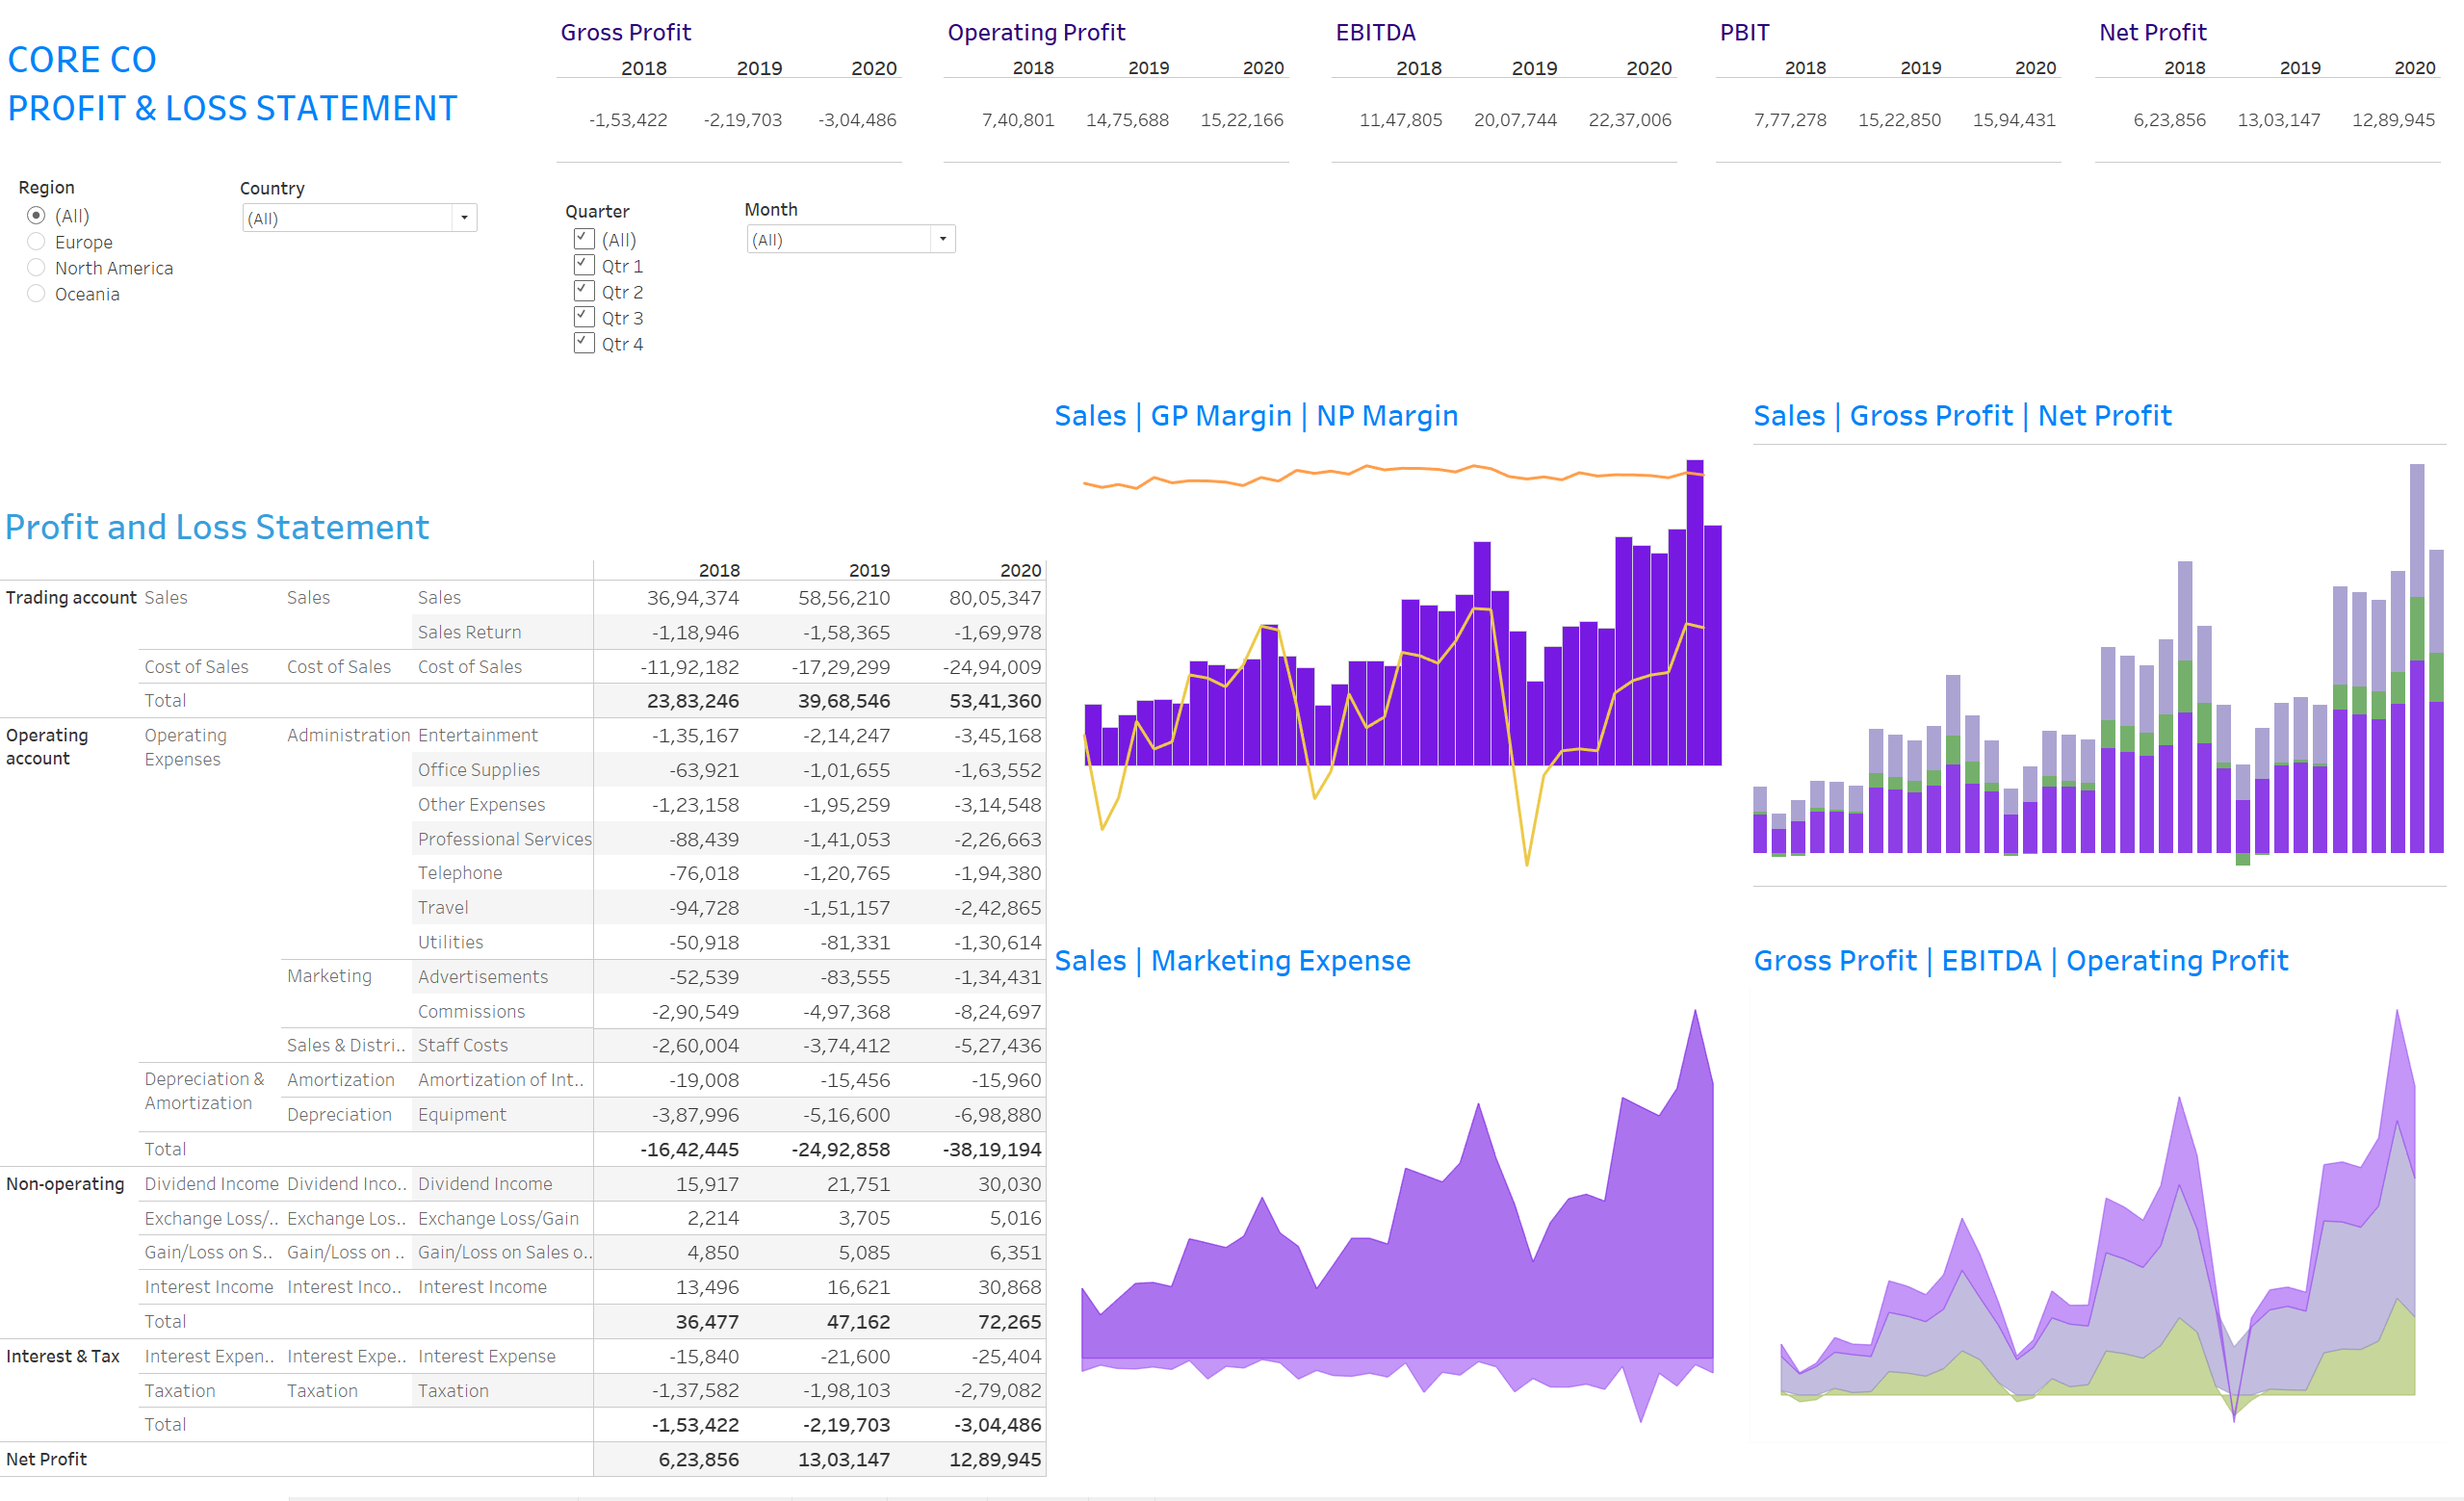

This screenshot's page, from the dashboard's own definition file:
{"tool":"tableau","page":{"name":"Financial Performance Dashboard","canvas":[1000,1000],"units":"permille","ordinal":2},"visuals":[{"type":"text","box":[1.3,3,214.8,102.6]},{"type":"worksheet","title":"Gross Profit","mark":"Automatic","cols":["Date (Calendar)"],"box":[225.9,7.5,140.4,101.1]},{"type":"worksheet","title":"Operating Profit","mark":"Automatic","cols":["Date (Calendar)"],"box":[382.8,7.5,140.4,101.1]},{"type":"worksheet","title":"EBITDA","mark":"Automatic","cols":["Date (Calendar)"],"box":[540.1,7.5,140.4,101.1]},{"type":"worksheet","title":"PBIT","mark":"Automatic","cols":["Date (Calendar)"],"box":[696.1,7.5,140.4,101.1]},{"type":"worksheet","title":"Net Profit","mark":"Automatic","cols":["Date (Calendar)"],"box":[849.8,7.5,140.4,101.1]},{"type":"filter","title":"Profit / Loss ","param":"[federated.1s87rl710kylzb1b4fb0w1q7lk72].[none:Region:nk]","box":[7.6,116.1,71.3,105.6]},{"type":"filter","title":"Profit / Loss ","param":"[federated.1s87rl710kylzb1b4fb0w1q7lk72].[none:Country:nk]","box":[97.2,116.9,97.6,189.3]},{"type":"filter","title":"Profit / Loss ","param":"[federated.1s87rl710kylzb1b4fb0w1q7lk72].[none:Month:nk]","box":[301.9,131.2,87,125.9]},{"type":"filter","title":"Profit / Loss ","param":"[federated.1s87rl710kylzb1b4fb0w1q7lk72].[none:Quarter:nk]","box":[229.2,132.7,71.3,136.5]},{"type":"worksheet","title":"Combo chart","mark":"Automatic","rows":["Calculation_321725930986655744"],"cols":["Date (Calendar)"],"box":[426,260.2,285.2,331.8]},{"type":"worksheet","title":"Sheet 8","mark":"Bar","cols":["Date (Calendar)","Date (Calendar)","Date (Calendar)"],"box":[709.9,260.2,283,331.8]},{"type":"worksheet","title":"Profit / Loss ","mark":"Automatic","rows":["Class","SubClass","SubClass2","Account"],"cols":["Date (Calendar)"],"box":[0,332.6,424.7,653.9]},{"type":"worksheet","title":"Sheet 10","mark":"Area","rows":["Calculation_321725930986655744","Calculation_321725931016613897"],"cols":["Date (Calendar)"],"box":[426,624.4,281.6,339.4]},{"type":"worksheet","title":"Sheet 8 (2)","mark":"Area","cols":["Date (Calendar)"],"box":[709.9,624.4,283,339.4]}]}

Visuals, with their boxes on the dashboard's canvas, which has no fixed pixel size, in thousandths of its width and height (x1, y1, x2, y2). These are canvas units, not pixel positions in the 2464x1501 screenshot, which may show the page scaled, cropped or inside an application window:
text: Rect(1, 3, 216, 106)
"Gross Profit" worksheet: Rect(226, 8, 366, 109)
"Operating Profit" worksheet: Rect(383, 8, 523, 109)
"EBITDA" worksheet: Rect(540, 8, 680, 109)
"PBIT" worksheet: Rect(696, 8, 836, 109)
"Net Profit" worksheet: Rect(850, 8, 990, 109)
"Profit / Loss " filter: Rect(8, 116, 79, 222)
"Profit / Loss " filter: Rect(97, 117, 195, 306)
"Profit / Loss " filter: Rect(302, 131, 389, 257)
"Profit / Loss " filter: Rect(229, 133, 300, 269)
"Combo chart" worksheet: Rect(426, 260, 711, 592)
"Sheet 8" worksheet (Bar marks): Rect(710, 260, 993, 592)
"Profit / Loss " worksheet: Rect(0, 333, 425, 986)
"Sheet 10" worksheet (Area marks): Rect(426, 624, 708, 964)
"Sheet 8 (2)" worksheet (Area marks): Rect(710, 624, 993, 964)
